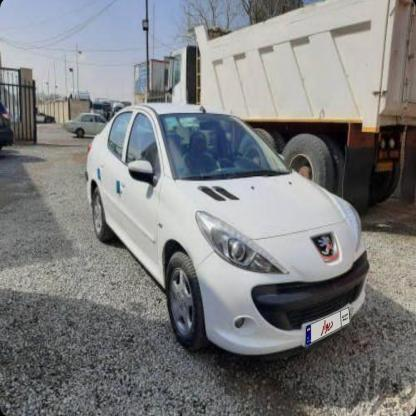Car: (80, 106, 368, 357), (0, 94, 23, 160), (68, 103, 108, 138)
Truck: (152, 0, 416, 241)
